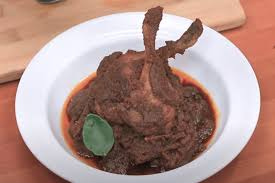rendang: (54, 3, 239, 175)
